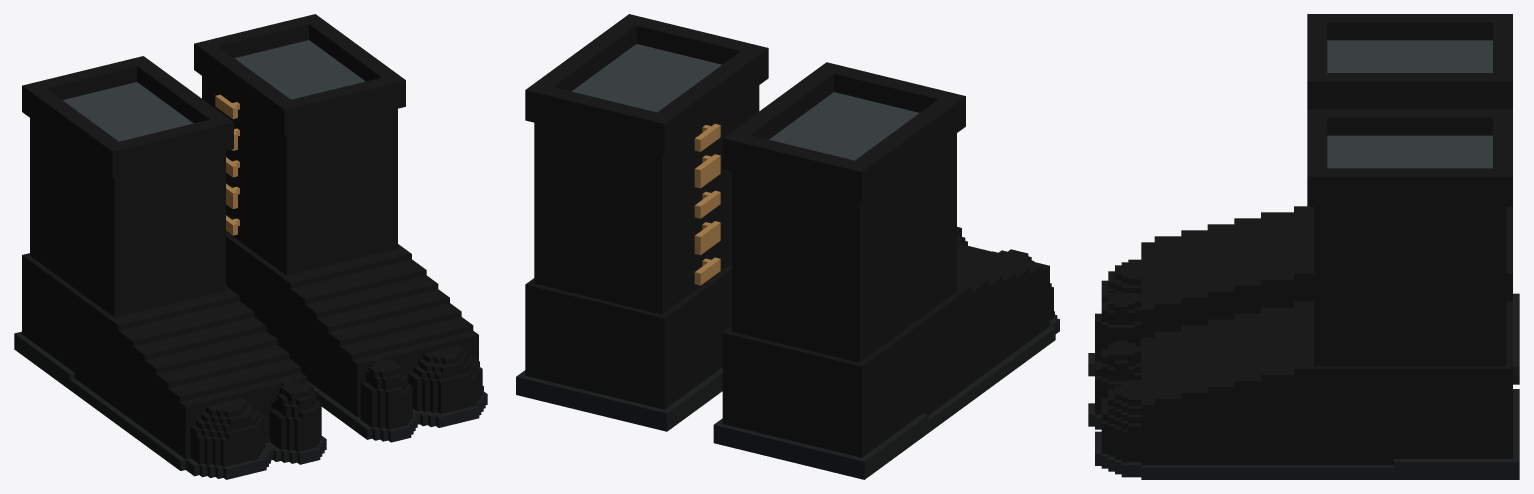
The model's file is jikatabi.glb.
3 renders of one model, left to right at view 1: azimuth 30°, elevation 25°; view 2: azimuth 150°, elevation 25°; view 3: azimuth 270°, elevation 25°, orthographic. The views are drawn at different scales.
Visible parts, largest first — view 1: jikatabi:compound; view 2: jikatabi:compound; view 3: jikatabi:compound.
Boxes of the visible parts, left/top/right/bottom form: jikatabi:compound: left=14, top=14, right=487, bottom=479; jikatabi:compound: left=516, top=14, right=1059, bottom=479; jikatabi:compound: left=1088, top=14, right=1519, bottom=479.
Bounding box in the file's own units: 0.24 × 0.2 × 0.26.
